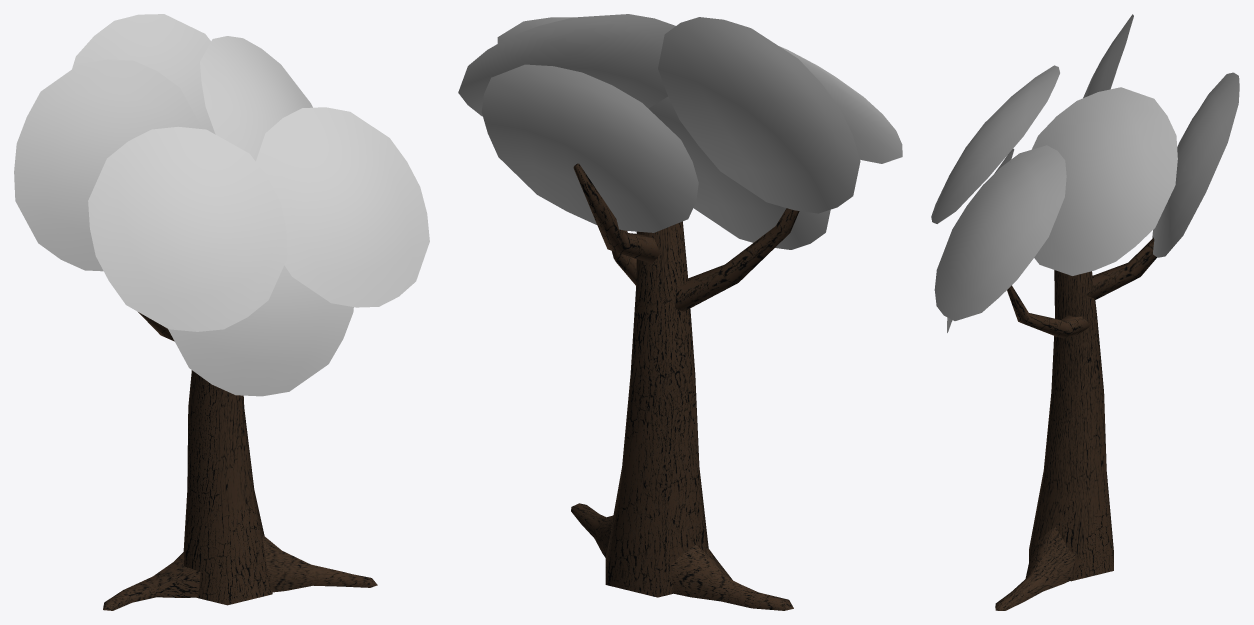
The model's file is littletree1fbx.fbx.
3 renders of one model, left to right at view 1: azimuth 30°, elevation 25°; view 2: azimuth 150°, elevation 25°; view 3: azimuth 270°, elevation 25°, orthographic. The views are drawn at different scales.
Parts seen in each view (by area): view 1: pPlane1, pPlane2, pPlane5, pCylinder1, pPlane6, pPlane4, pPlane3, pCylinder2, pCylinder3; view 2: pPlane5, pCylinder1, pPlane3, pPlane4, pPlane6, pPlane1, pCylinder3, pCylinder6, pCylinder4, pCylinder2; view 3: pPlane4, pCylinder1, pPlane2, pPlane3, pPlane1, pCylinder2, pCylinder4, pCylinder5, pPlane5.
Boxes of the visible parts, x1,y1,x2,y2 form: pPlane1: (88, 126, 287, 331); pPlane2: (256, 107, 429, 307); pPlane5: (14, 59, 202, 271); pCylinder1: (183, 370, 272, 605); pPlane6: (168, 265, 353, 396); pPlane4: (200, 36, 312, 161); pPlane3: (72, 14, 215, 134); pCylinder2: (262, 534, 377, 592); pCylinder3: (103, 551, 200, 610); pPlane5: (658, 17, 860, 213); pCylinder1: (605, 221, 708, 597); pPlane3: (481, 64, 698, 232); pPlane4: (458, 14, 675, 116); pPlane6: (648, 96, 830, 249); pPlane1: (779, 46, 902, 163); pCylinder3: (671, 545, 793, 610); pCylinder6: (675, 208, 799, 311); pCylinder4: (573, 163, 659, 263); pCylinder2: (571, 503, 613, 557); pPlane4: (1032, 87, 1177, 275); pCylinder1: (1029, 270, 1113, 581); pPlane2: (934, 145, 1066, 320); pPlane3: (1152, 72, 1239, 257); pPlane1: (931, 65, 1059, 223); pCylinder2: (995, 527, 1076, 610); pCylinder4: (1087, 237, 1156, 300); pCylinder5: (1007, 285, 1097, 338); pPlane5: (1083, 14, 1133, 97).
Bounding box in the file's own units: 11.1 × 15.51 × 8.81.
